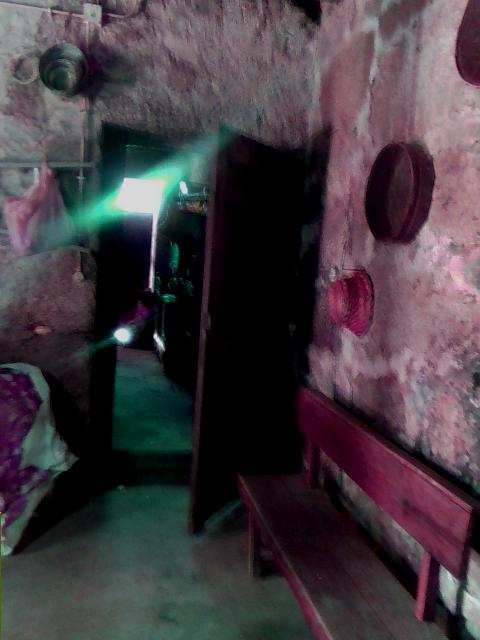semi_door: (89, 115, 303, 543)
